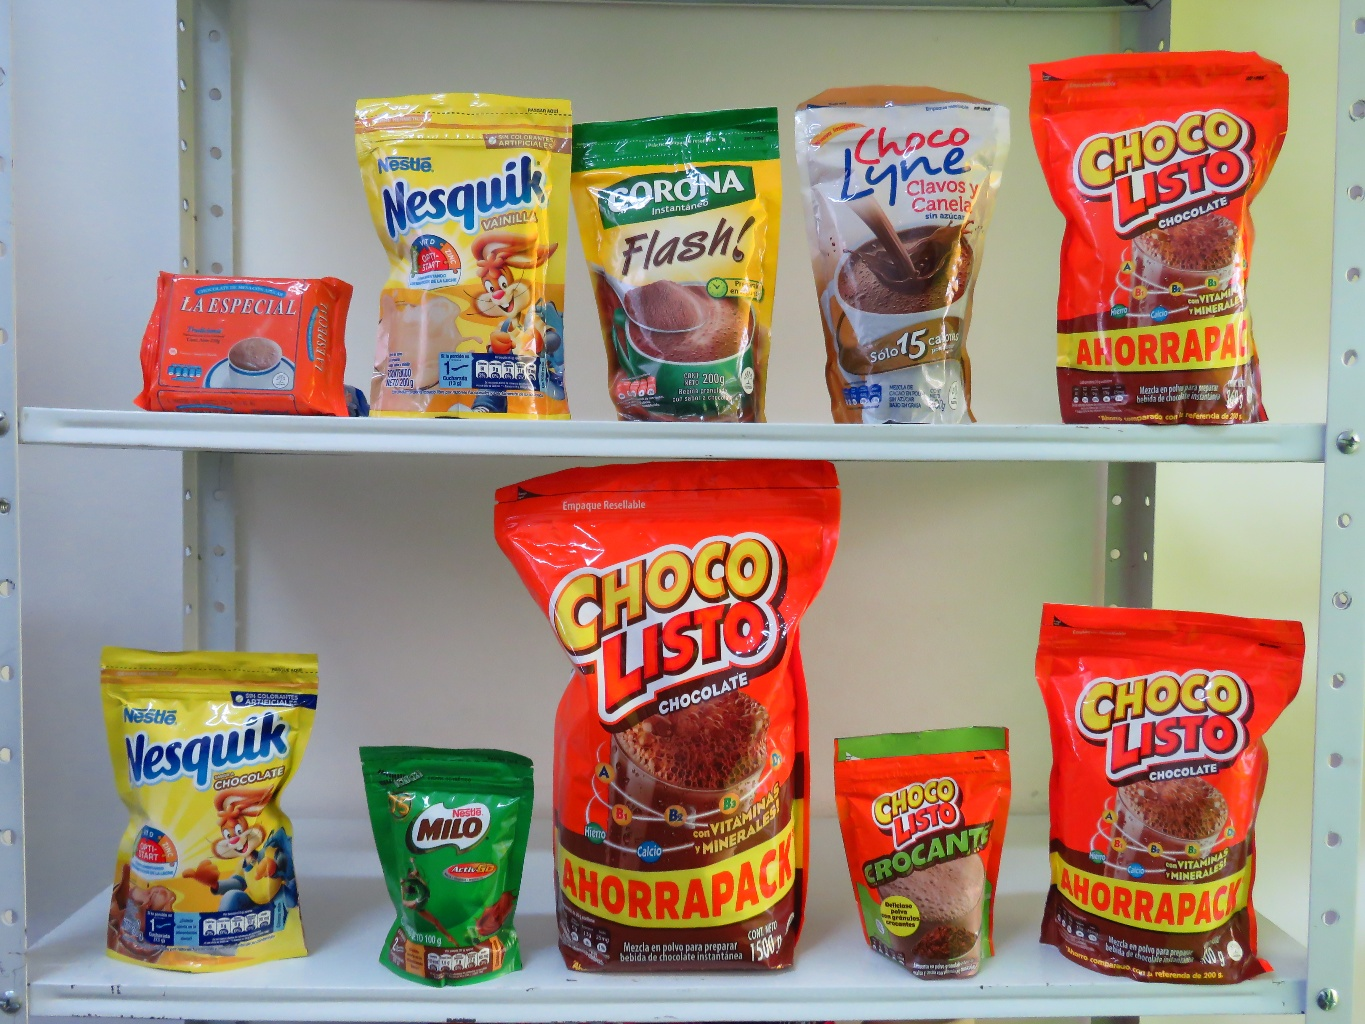COL0170102DYP10000: (827, 713, 1028, 978)
COL0170103DYP1,500: (504, 439, 850, 982)
COL0170103DYP36000: (1027, 44, 1303, 428)
COL0170103DYP40000: (1019, 591, 1319, 994)
COL0170203DYP10000: (343, 734, 548, 984)
COL0170303DYP20000: (93, 632, 321, 975)
COL0170306DYP20000: (344, 80, 591, 415)
